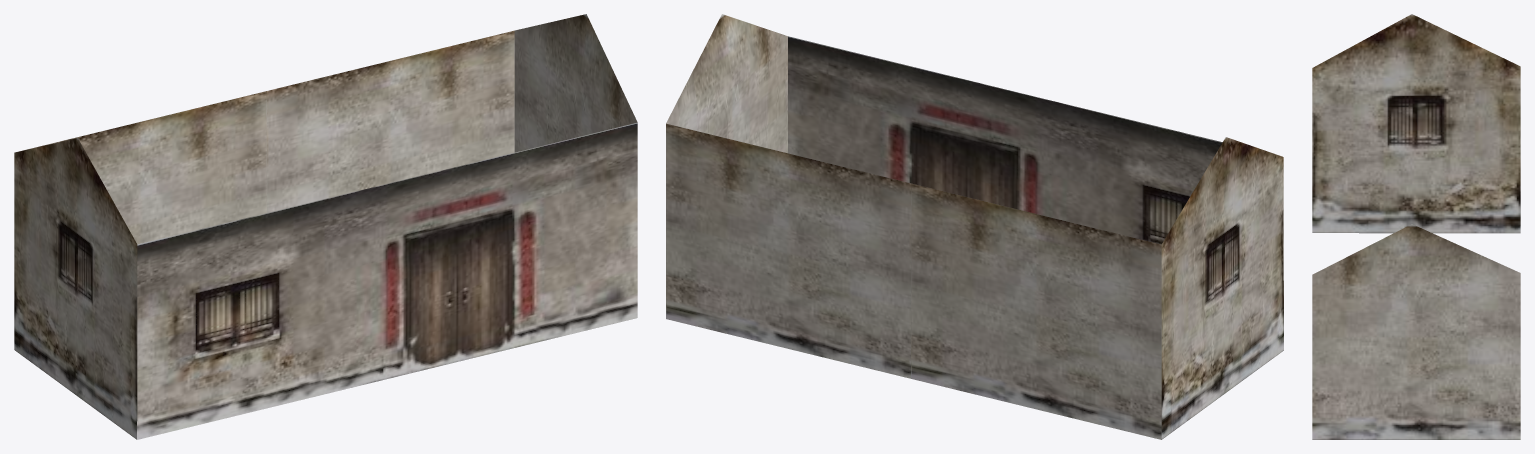
The model's file is fang02.obj.
3 renders of one model, left to right at view 1: azimuth 30°, elevation 25°; view 2: azimuth 150°, elevation 25°; view 3: azimuth 270°, elevation 25°, orthographic. The views are drawn at different scales.
Visible parts, largest first — view 1: fang02; view 2: fang02; view 3: fang02.
Boxes of the visible parts, x1,y1,x2,y2 form: fang02: (14, 14, 637, 439); fang02: (666, 14, 1283, 439); fang02: (1312, 14, 1520, 439).
Bounding box in the file's own units: 197 × 95.82 × 82.6.
